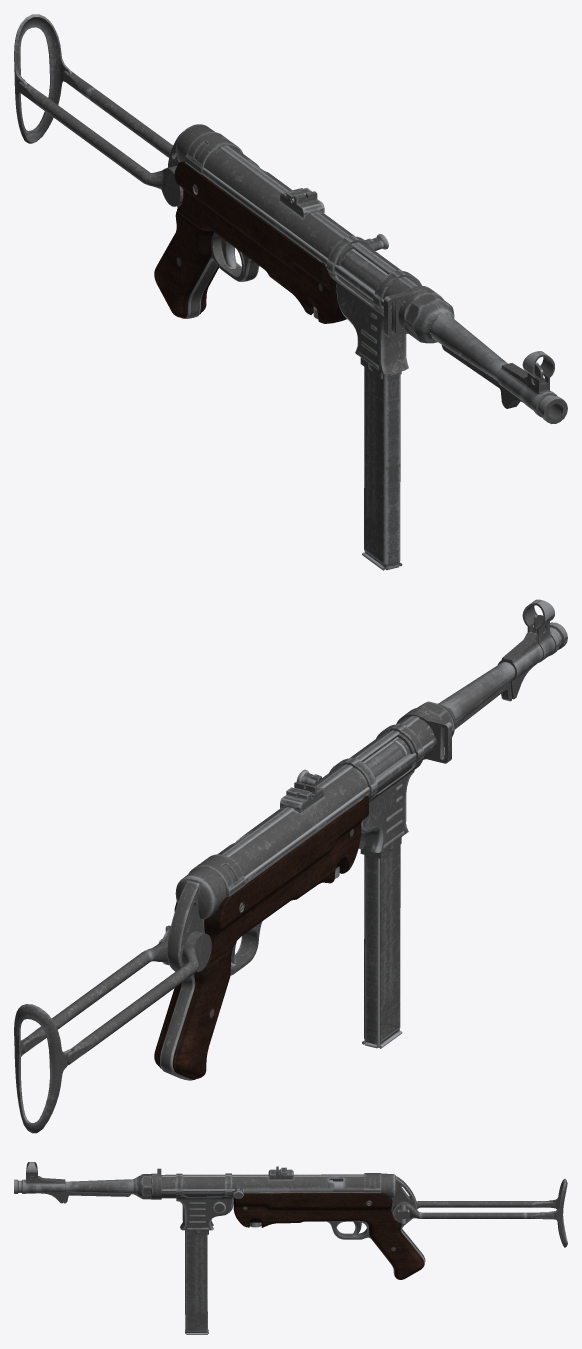
3 renders of one model, top to bottom at view 1: azimuth 30°, elevation 25°; view 2: azimuth 150°, elevation 25°; view 3: azimuth 270°, elevation 25°, orthographic. The views are drawn at different scales.
Visible parts, largest first — view 1: Body_MP40, Magazine; view 2: Body_MP40, Magazine; view 3: Body_MP40, Magazine.
Boxes of the visible parts, x1,y1,x2,y2 form: Body_MP40: [14, 14, 567, 423]; Magazine: [360, 298, 402, 570]; Body_MP40: [14, 599, 567, 1133]; Magazine: [360, 837, 402, 1048]; Body_MP40: [14, 1162, 567, 1279]; Magazine: [185, 1230, 208, 1334].
Size of the model in its own units: 0.0678 by 0.2819 by 0.833.
Materials: 1 (1 with a texture image).
